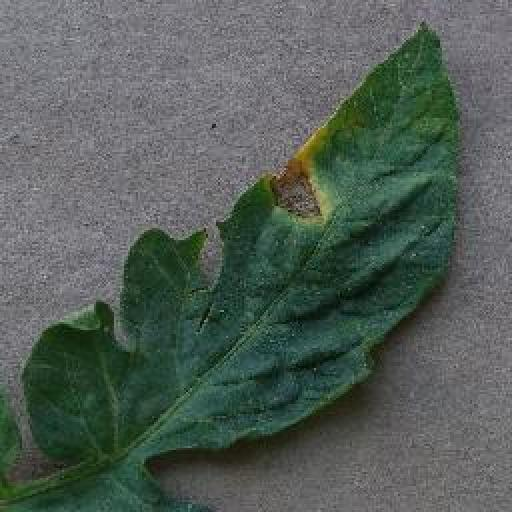disease_tomato: (23, 25, 464, 459)
